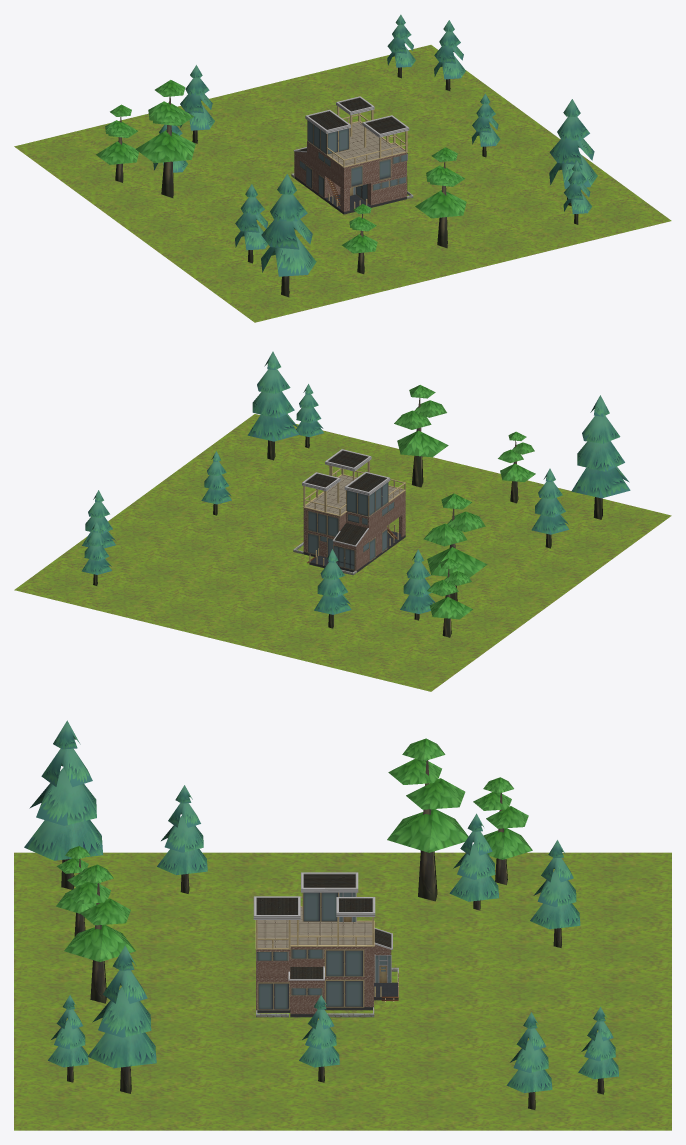
File: zhuzhai_loft_danshenggongyu01_lod.FBX
3 renders of one model, top to bottom at view 1: azimuth 30°, elevation 25°; view 2: azimuth 150°, elevation 25°; view 3: azimuth 270°, elevation 25°, orthographic. The views are drawn at different scales.
Visible parts, largest first — view 1: caodi, shu, zhuzhai_loft_danshenggongyu01_lod; view 2: caodi, shu, zhuzhai_loft_danshenggongyu01_lod; view 3: caodi, shu, zhuzhai_loft_danshenggongyu01_lod.
Part boxes in pixels (x1=…): caodi: x1=14, y1=45, x2=671, y2=322; shu: x1=96, y1=14, x2=597, y2=297; zhuzhai_loft_danshenggongyu01_lod: x1=291, y1=96, x2=413, y2=214; caodi: x1=14, y1=414, x2=671, y2=691; shu: x1=81, y1=351, x2=630, y2=637; zhuzhai_loft_danshenggongyu01_lod: x1=293, y1=449, x2=405, y2=575; caodi: x1=14, y1=852, x2=671, y2=1130; shu: x1=24, y1=720, x2=618, y2=1109; zhuzhai_loft_danshenggongyu01_lod: x1=253, y1=872, x2=398, y2=1017.
Bounding box in the file's own units: 6400 × 1902 × 6400.
